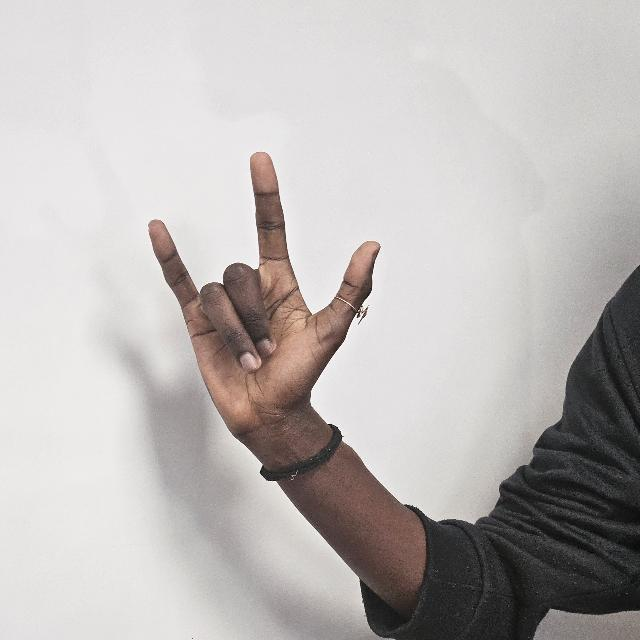Cima: (146, 150, 382, 434)
